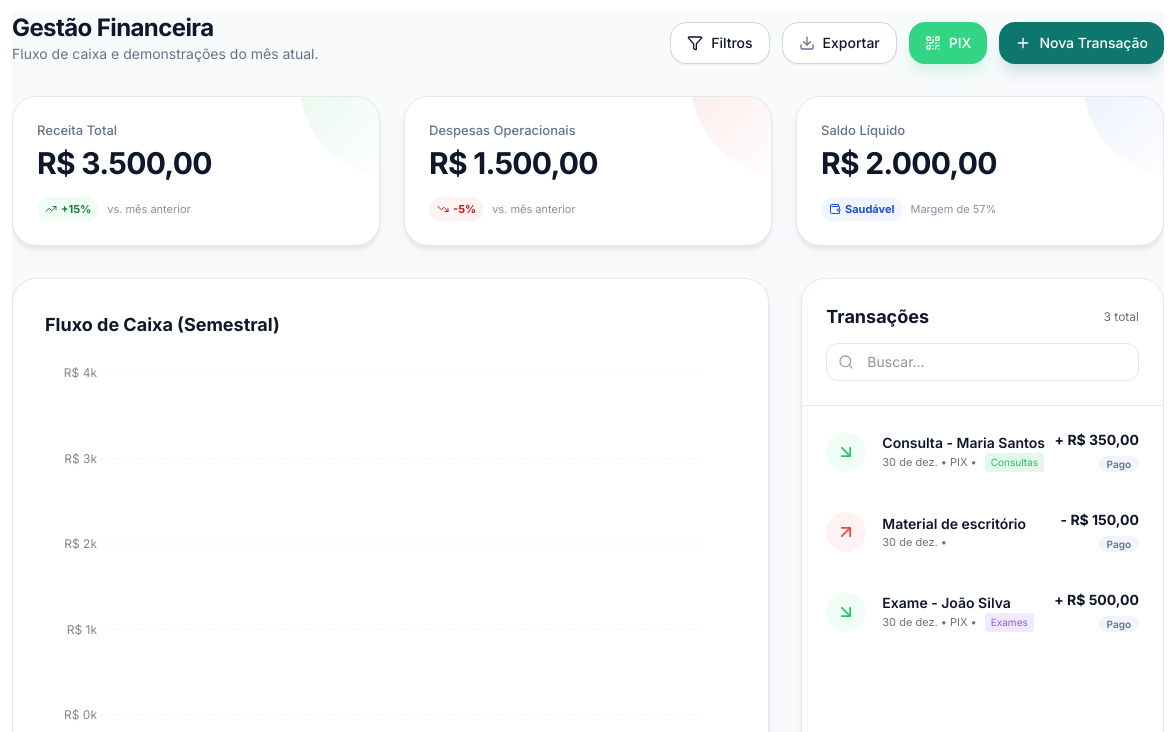
Test: Finance › export functionality › should close export menu after selecting option
Click the button "Exportar". click: (839, 43)
box: [782, 22, 897, 64]
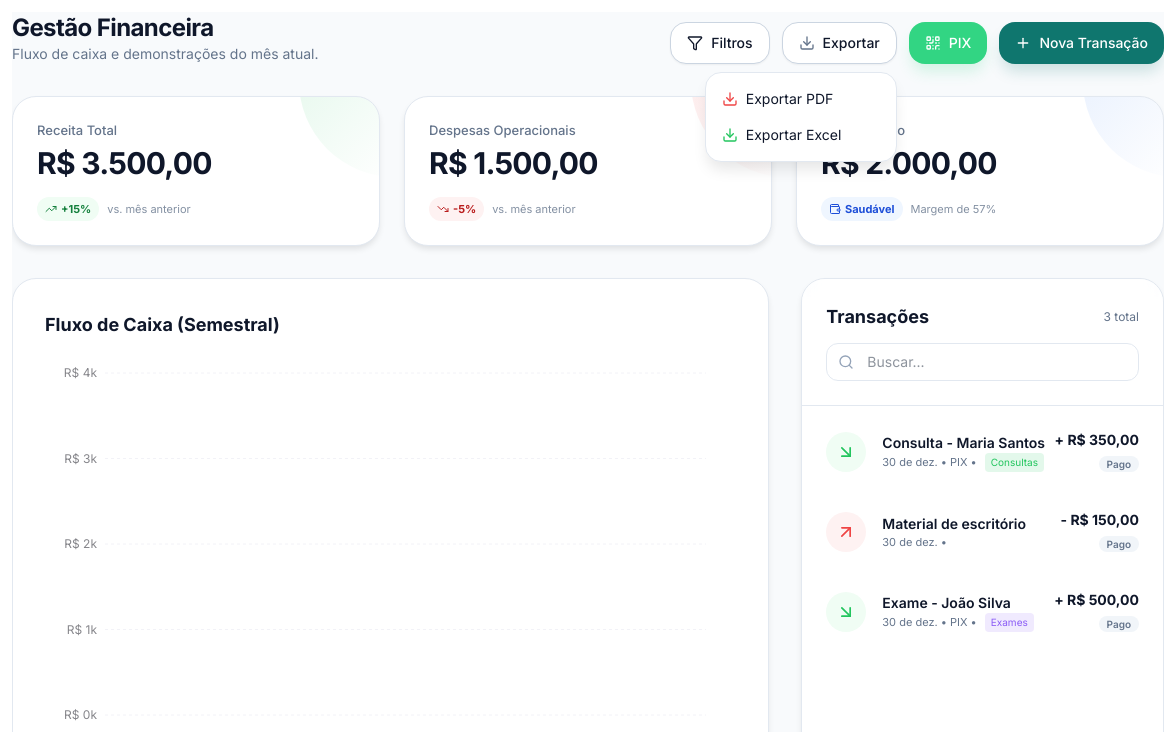
Click the button "Exportar PDF". click: (801, 99)
box: [706, 81, 896, 117]
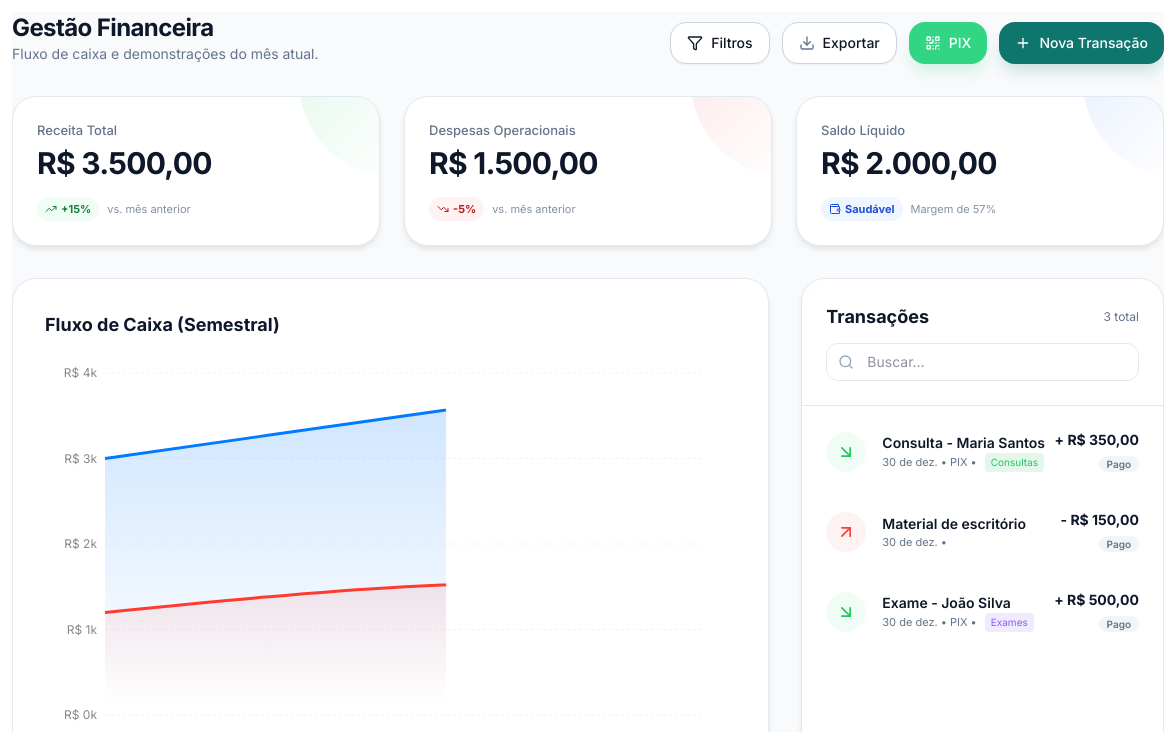
Result: the button "Exportar PDF" is gone
